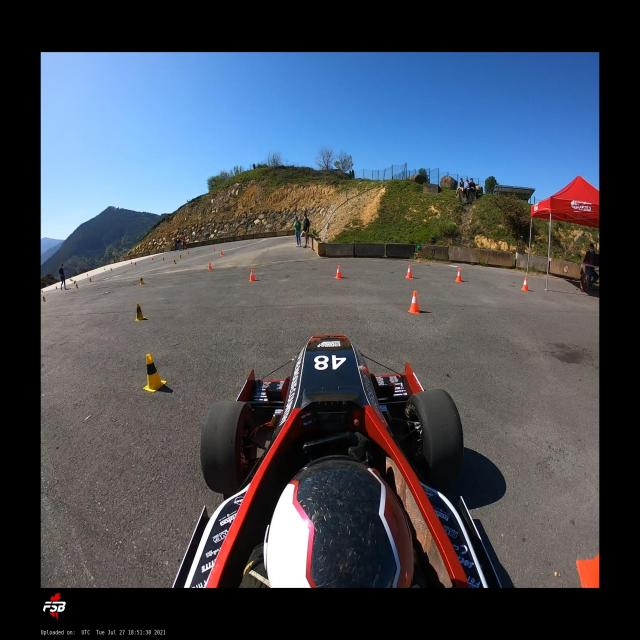orange_cone: (408, 290, 421, 314), (405, 264, 414, 279), (334, 265, 342, 279), (248, 269, 257, 281), (521, 277, 528, 292), (455, 268, 462, 282), (208, 261, 212, 270), (220, 248, 223, 256), (213, 246, 215, 252), (151, 256, 154, 260), (188, 251, 190, 255)
yellow_cone: (143, 353, 167, 392), (134, 302, 146, 321), (139, 276, 145, 285), (173, 258, 176, 265), (43, 296, 46, 302), (180, 254, 182, 260), (163, 256, 165, 262), (76, 284, 79, 288), (134, 261, 136, 266), (90, 278, 92, 282), (110, 267, 112, 270)
